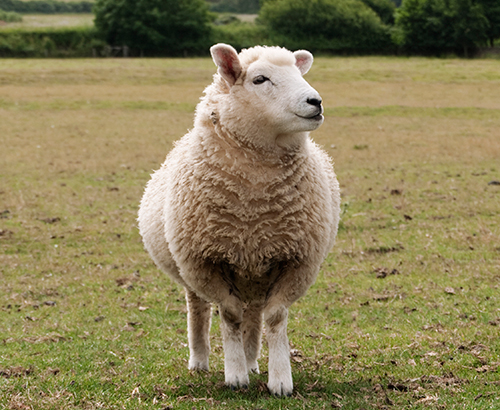koyun: (146, 39, 338, 397)
